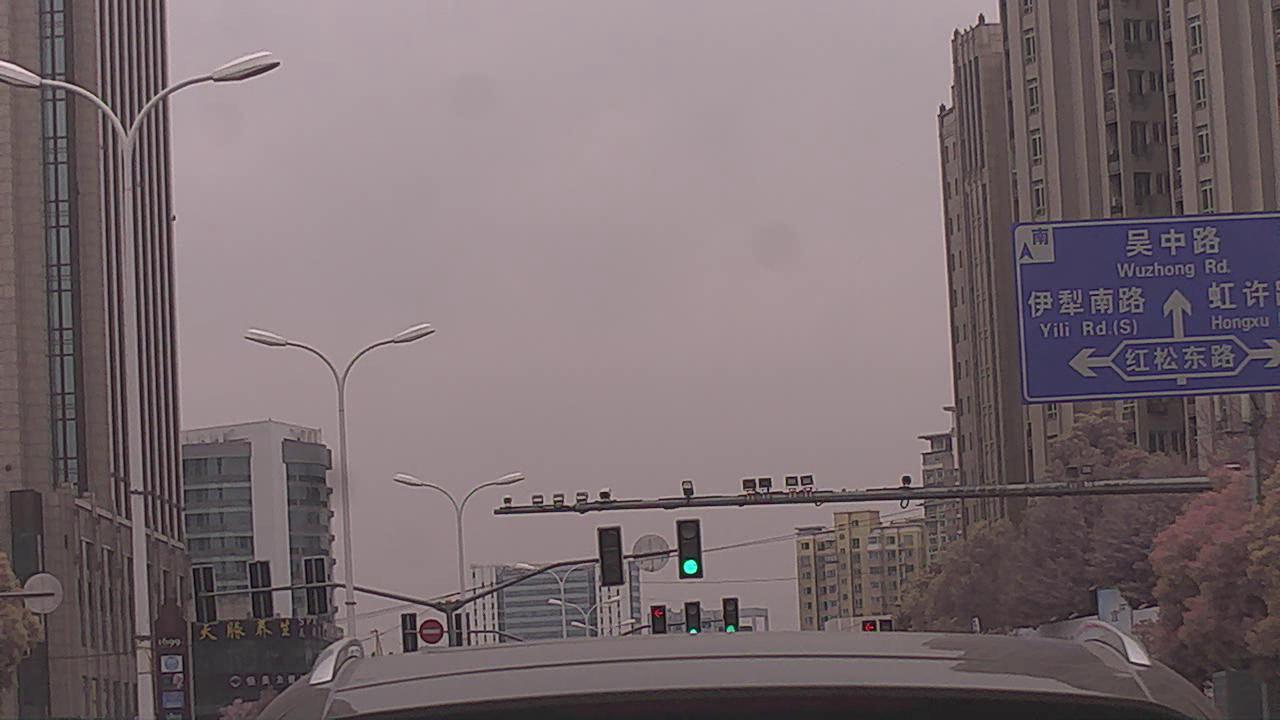traffic_light: (597, 527, 625, 589), (676, 518, 703, 581), (684, 600, 703, 642), (725, 594, 741, 638), (652, 606, 666, 639)
